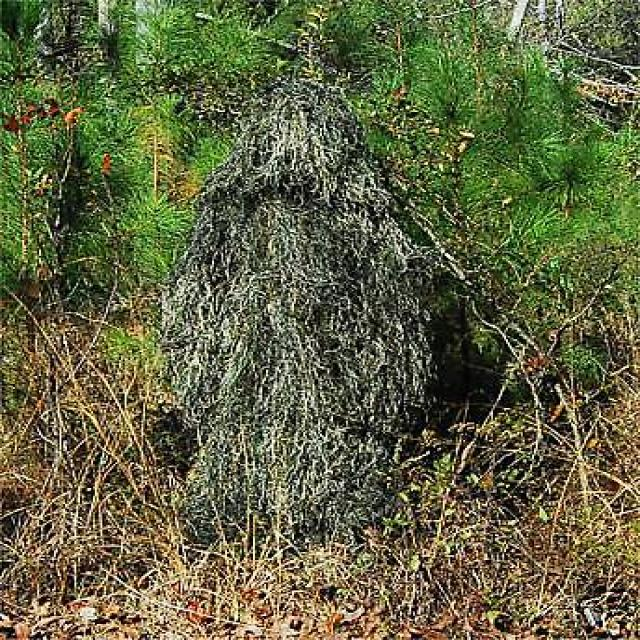Camouflage: (158, 84, 467, 561)
